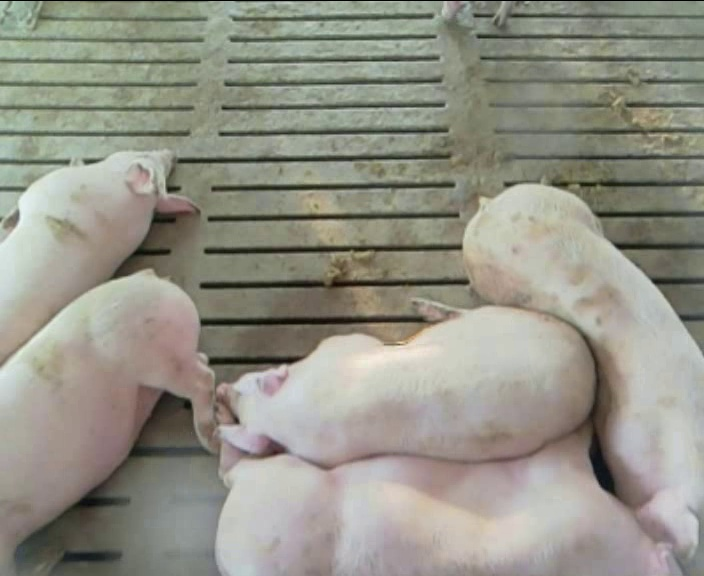pig: (463, 184, 703, 575), (0, 270, 215, 575), (217, 300, 594, 465), (0, 151, 194, 363)
